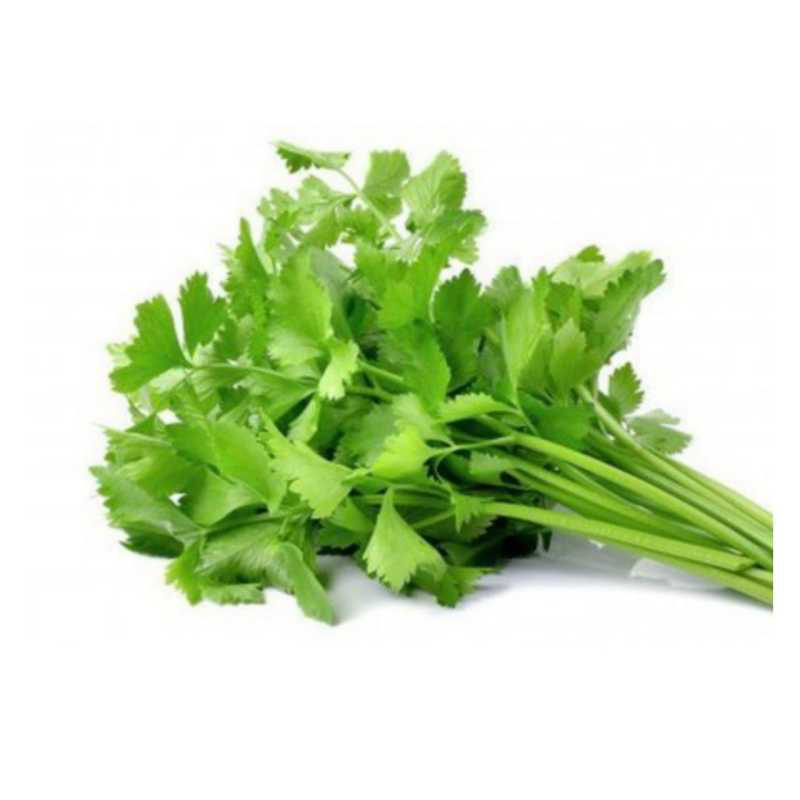Seledri: (110, 115, 791, 671)
